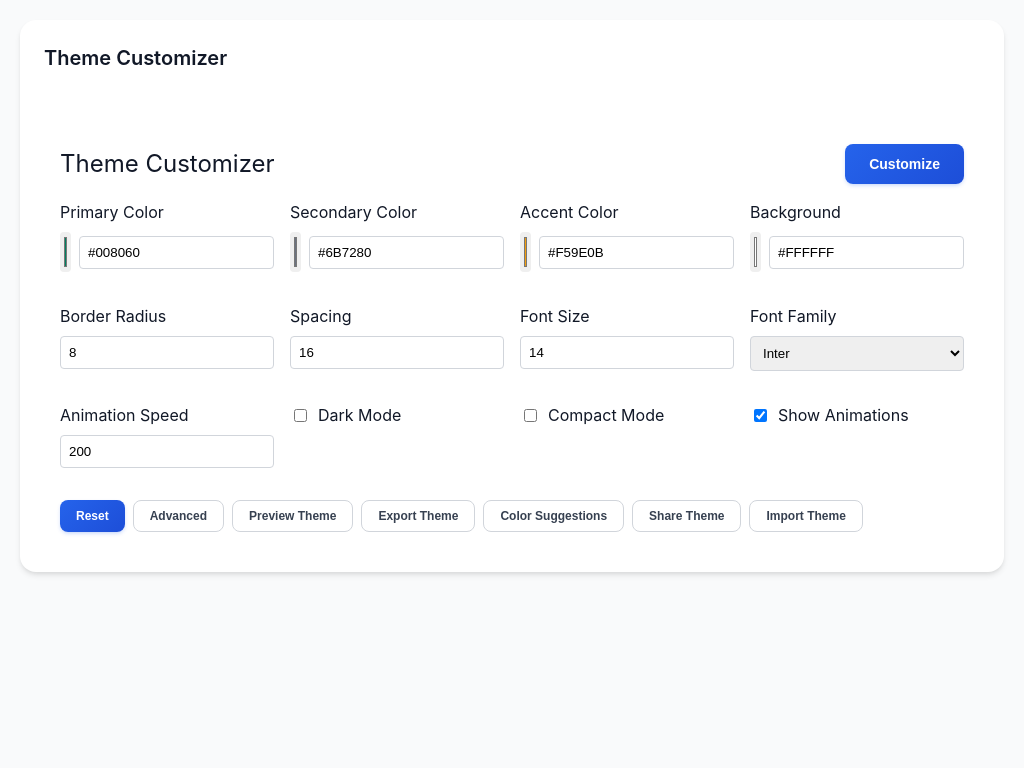
Test: ThemeCustomizer › should handle theme preview
What coordinates should you click on to do the following:
click the button "Preview Theme"
I would click on:
 (293, 516)
Its box is [232,500,353,532].
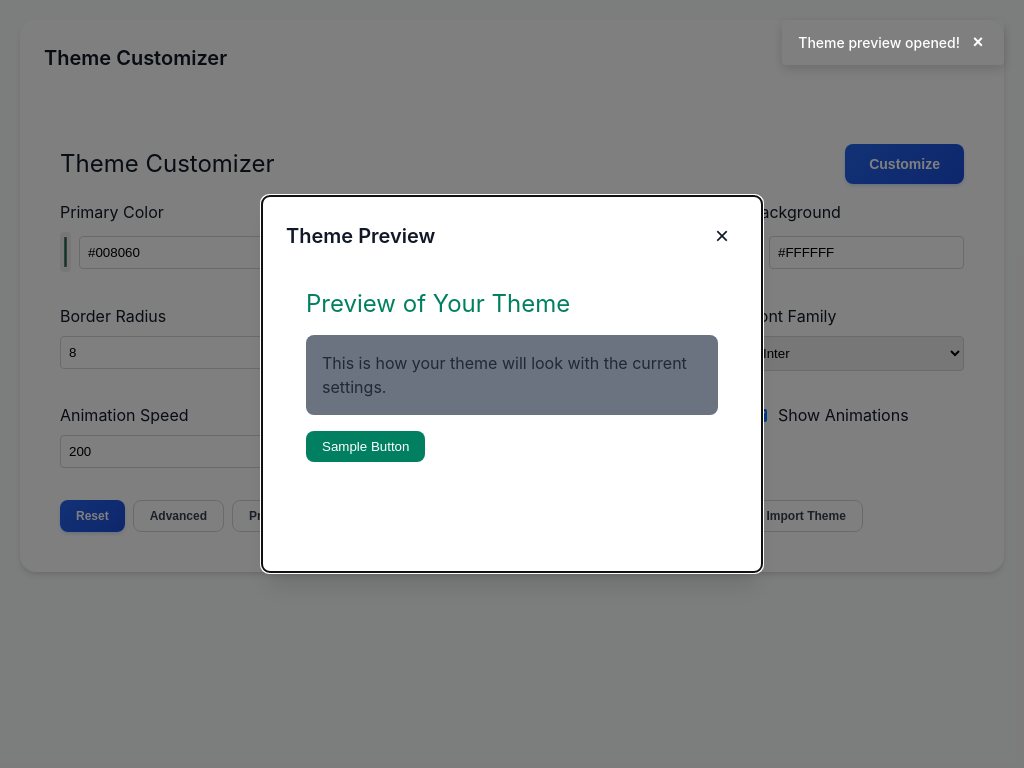
Check: the heading "Theme Preview" is shown, box [286,221,435,251]
Check: the heading "Preview of Your Theme" is shown, box [306,289,570,318]
Check: the button "Sample Button" is shown, box [306,431,425,462]
